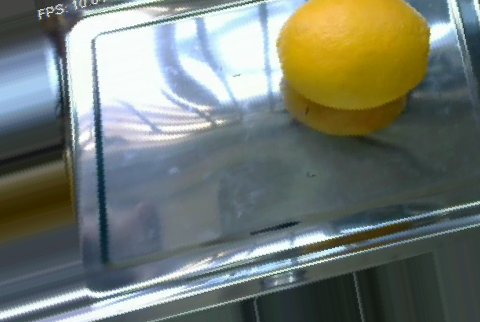Orange: (275, 2, 430, 111)
